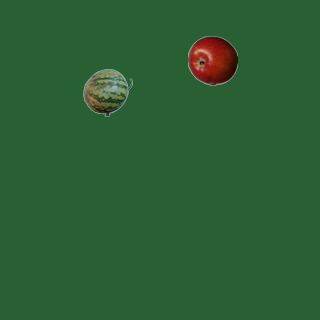Apple Braeburn: (187, 35, 237, 85)
Watermelon: (82, 67, 132, 117)
